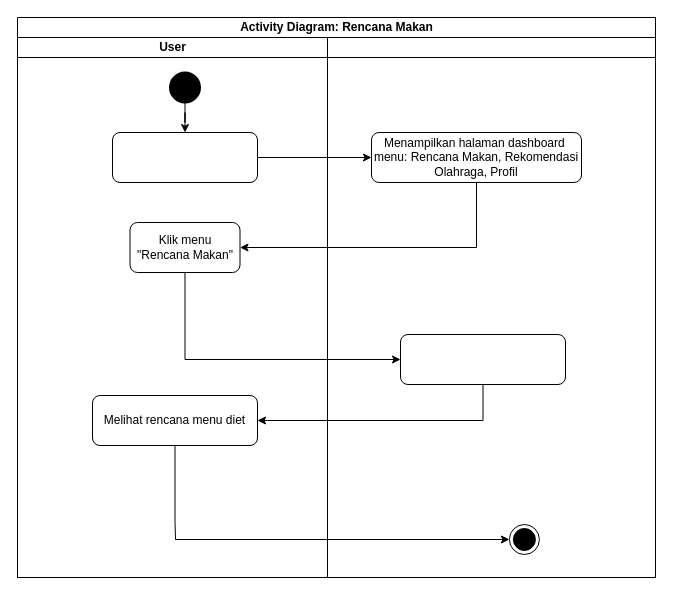
The diagram is 673 pixels wide and 595 high, and some of its shapes have lost their labels. Each missing label, with the box of its shape:
Berada di halaman dashboard user: (112, 132, 258, 182)
Menampilkan halaman rekomendasi menu makanan, total kalori menu, hidrasi: (400, 334, 566, 384)
System: (326, 36, 656, 578)
